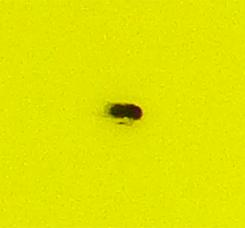Brachycera: (100, 100, 145, 128)
